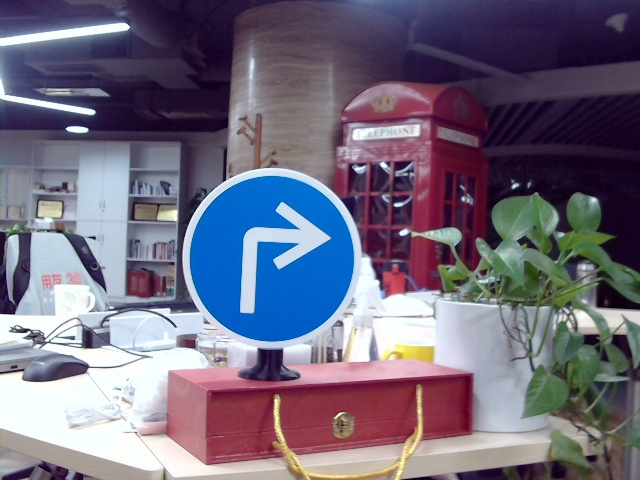turn_right: (225, 203, 327, 312)
